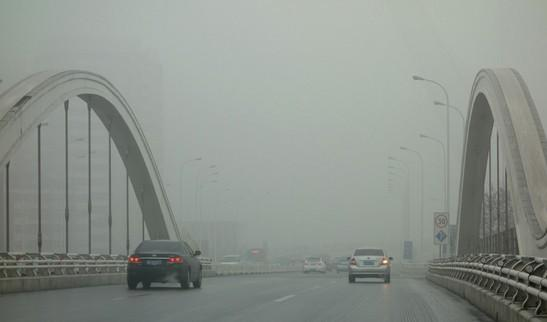bus: (245, 249, 270, 274)
car: (125, 239, 204, 290), (346, 248, 395, 285), (219, 255, 244, 274), (301, 256, 326, 274), (334, 256, 353, 272)
